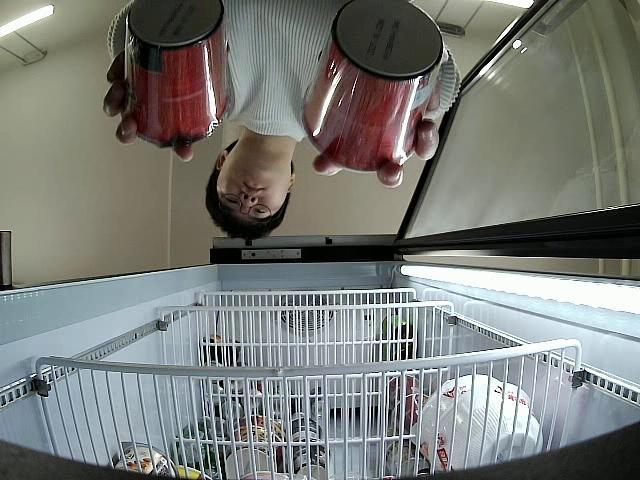02_shinRamen_S: (302, 0, 440, 169), (128, 0, 228, 148)
